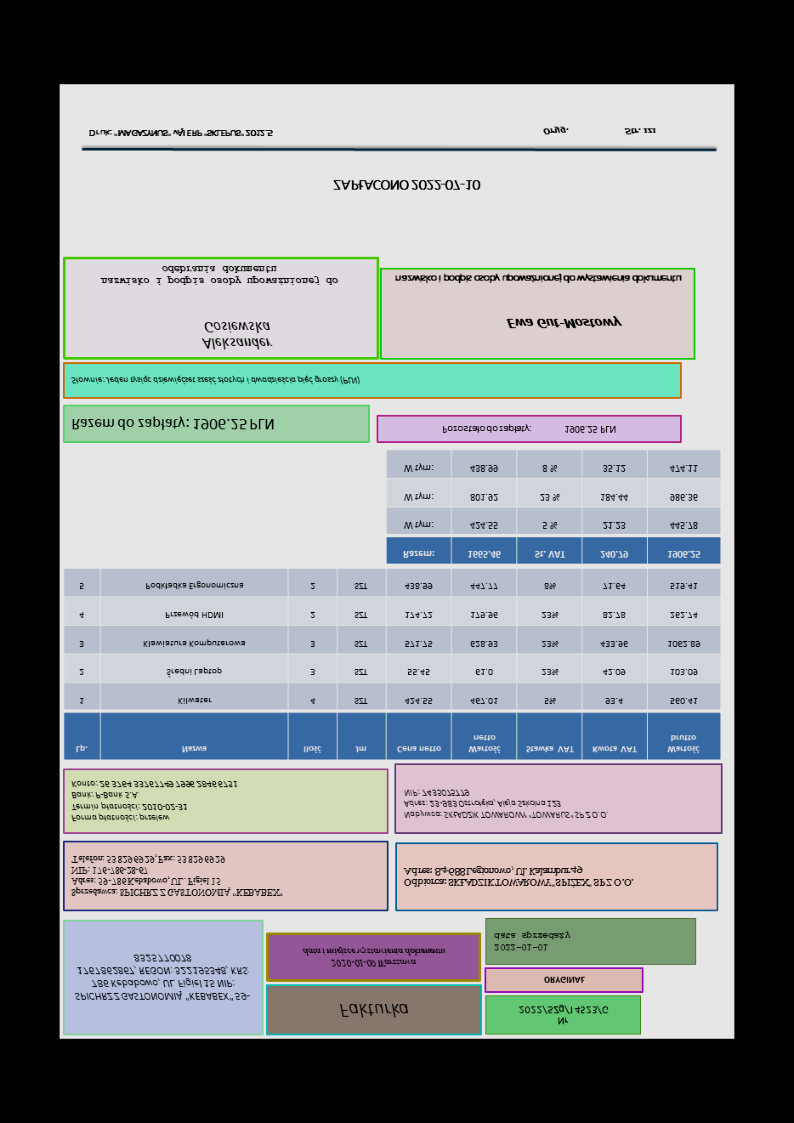Table: (62, 567, 722, 761), (385, 450, 721, 564)
TextBox: (69, 853, 286, 900), (70, 950, 252, 1004), (68, 779, 240, 825), (400, 787, 610, 821), (400, 865, 634, 890), (99, 264, 338, 288), (392, 271, 683, 286), (70, 415, 275, 434), (301, 945, 447, 969), (70, 375, 361, 387), (330, 176, 482, 194), (200, 319, 276, 352), (516, 1003, 610, 1028), (440, 423, 616, 436), (504, 313, 624, 332), (85, 127, 275, 139), (492, 929, 572, 954), (540, 125, 659, 138), (337, 1000, 410, 1019), (541, 975, 587, 986)
